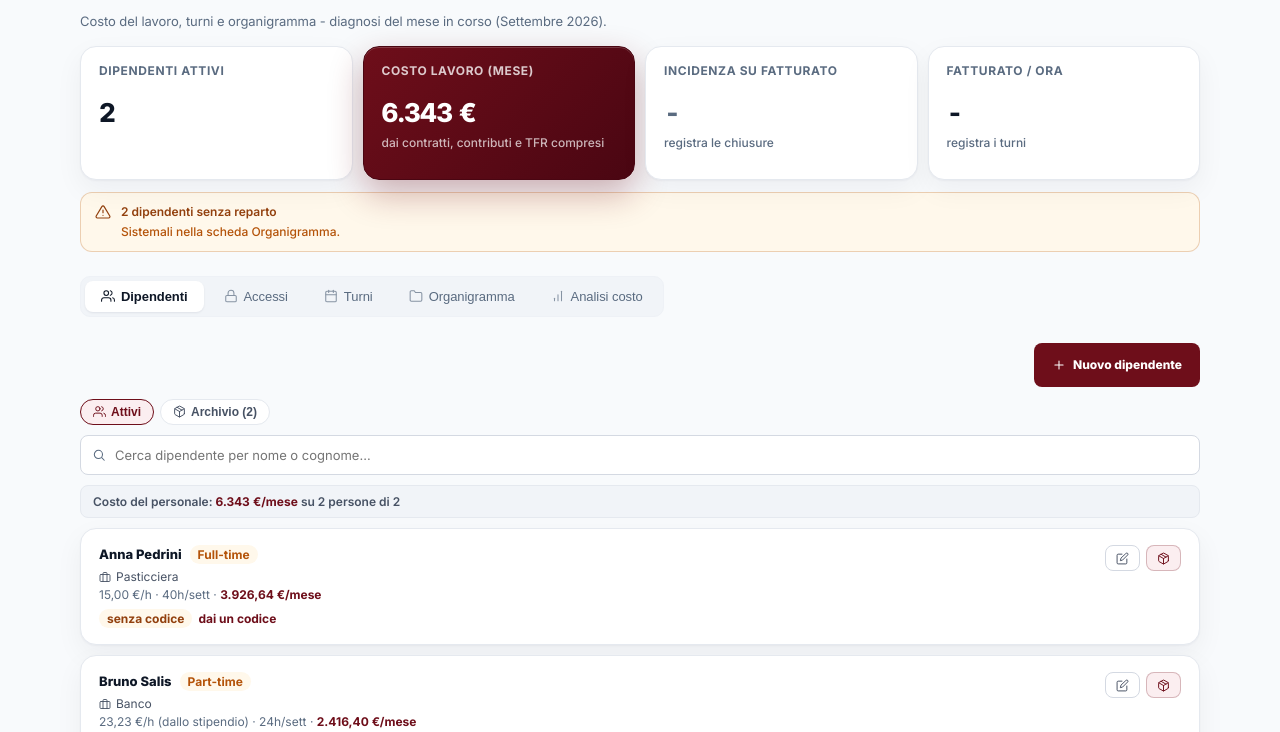
Test: La scheda «Analisi costo» › senza turni registrati lo dice, invece di mostrare zeri
The width and height of the screenshot is (1280, 732).
Click the button "Analisi costo": [597, 296] box [535,280,659,312]
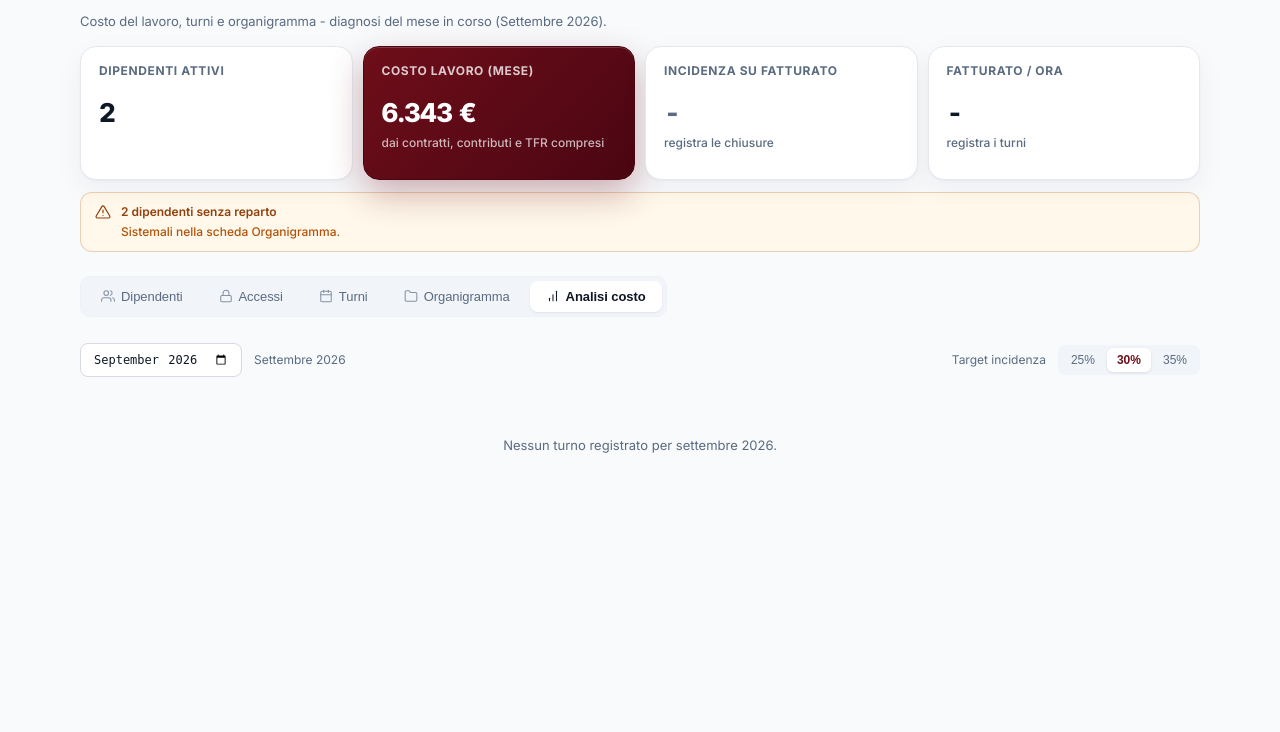
Check: the text "Target incidenza" is shown, box [952,352,1046,367]
Check: the text "Nessun turno registrato" is shown, box [503,436,676,452]
